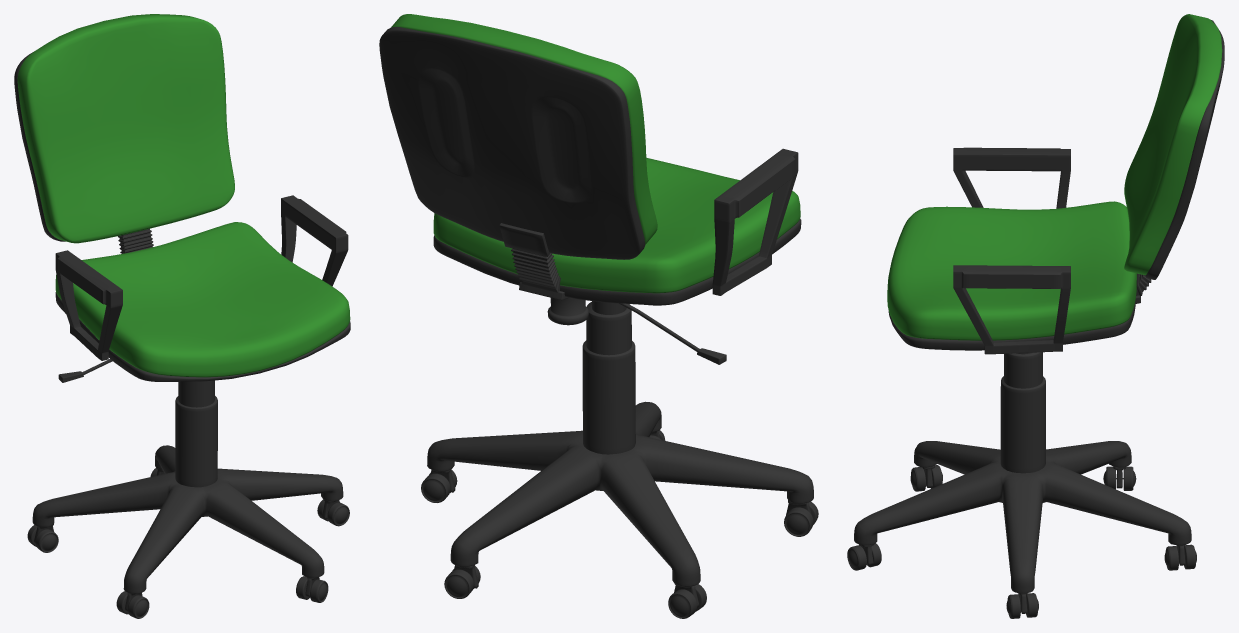
File: Office_chair.FBX
3 views of the same model, side by side, from view 1: azimuth 30°, elevation 25°; view 2: azimuth 150°, elevation 25°; view 3: azimuth 270°, elevation 25° (orthographic). The views are drawn at different scales.
Visible parts, largest first — view 1: Office_chair; view 2: Office_chair; view 3: Office_chair.
Boxes of the visible parts, x1,y1,x2,y2 form: Office_chair: (14, 14, 350, 618); Office_chair: (379, 14, 818, 618); Office_chair: (847, 14, 1224, 618).
Size of the model in its own units: 74.71 by 124 by 84.98.
